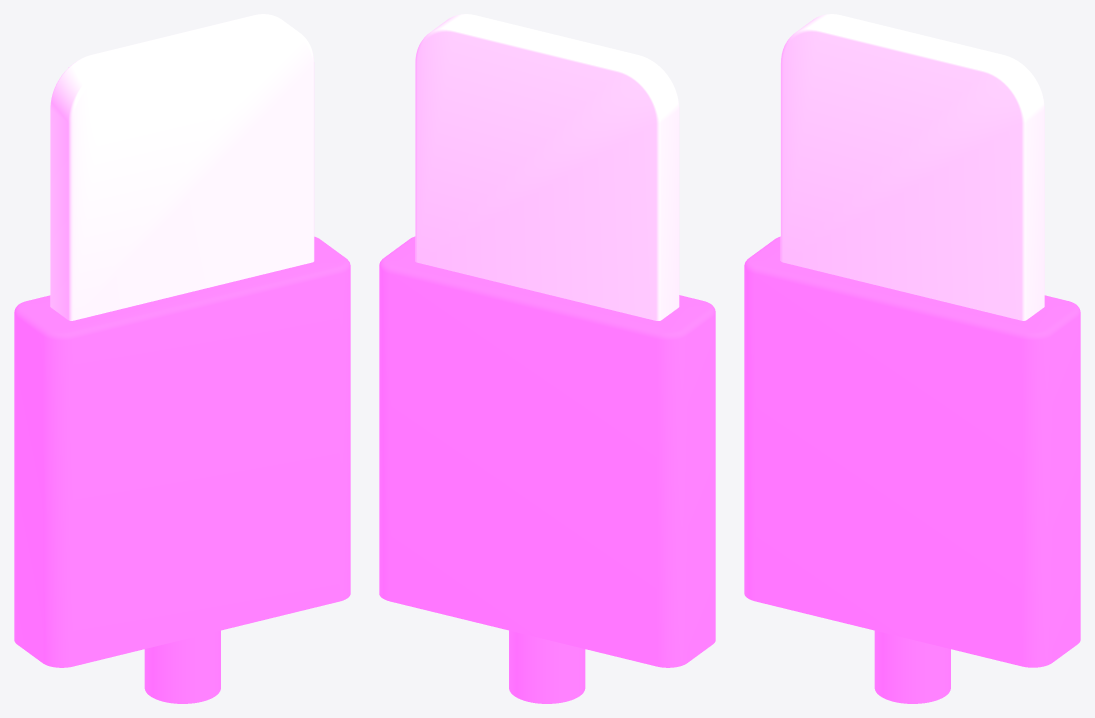
File: lighthing port.fbx
The picture shows the model from 3 angles, left to right: view 1: azimuth 30°, elevation 25°; view 2: azimuth 150°, elevation 25°; view 3: azimuth 330°, elevation 25°; orthographic projection.
Parts seen in each view (by area): view 1: Cube; view 2: Cube; view 3: Cube.
Boxes of the visible parts, box(x1,y1,x2,y2) form: Cube: box(14, 14, 350, 703); Cube: box(379, 14, 715, 703); Cube: box(744, 14, 1080, 703).
Size of the model in its own units: 27.69 by 56.06 by 7.49.
